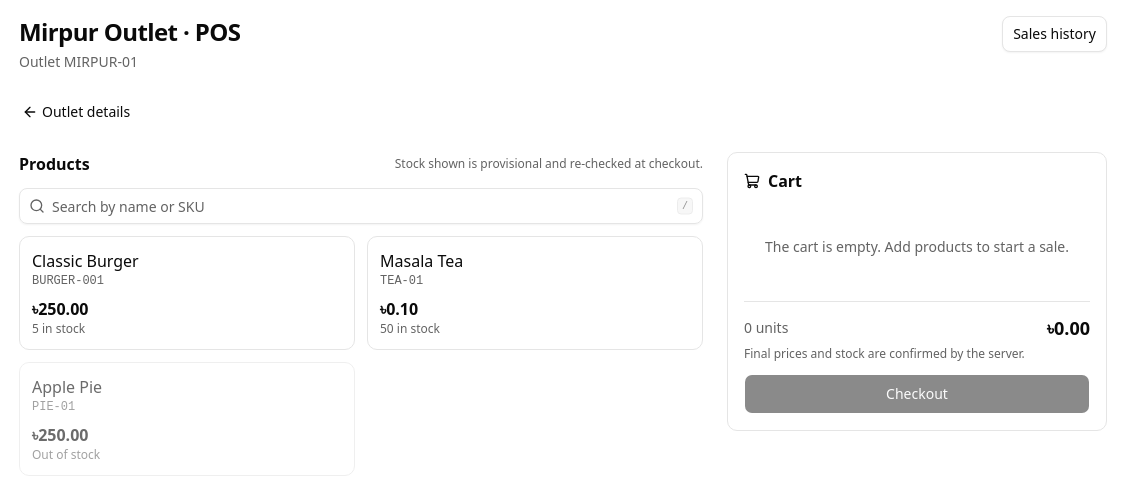
Test: POS catalog and cart › filters the catalog client-side by name and SKU without a new request
This screenshot has width=1124, height=493.
Check: the text "Classic Burger" is shown, box [32,249,139,273]
Type "tea" into the search field named "search products" at x=361, y=206, box [19,188,703,224]
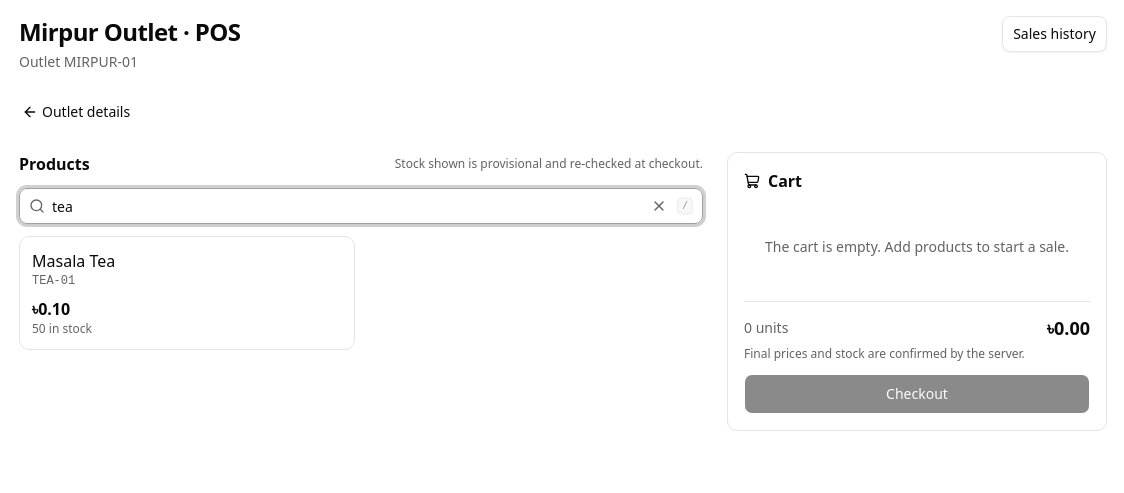
Check: the text "Masala Tea" is shown, box [32,249,115,273]
Check: the button "Classic Burger" is gone
